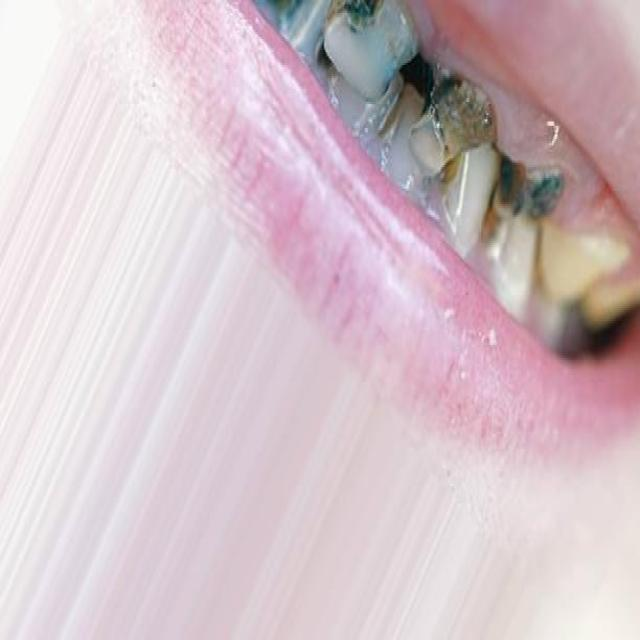caries: (413, 60, 495, 194), (322, 0, 413, 102), (503, 131, 567, 226), (469, 192, 511, 256)
